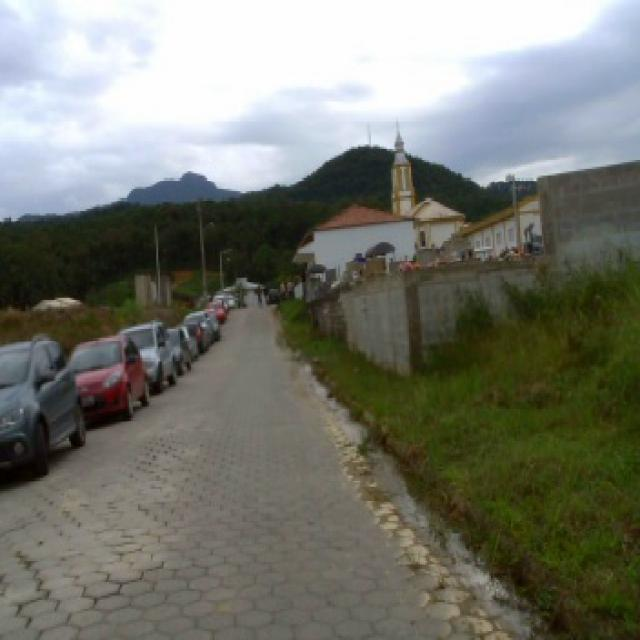Poth-hole: (298, 362, 540, 636)
